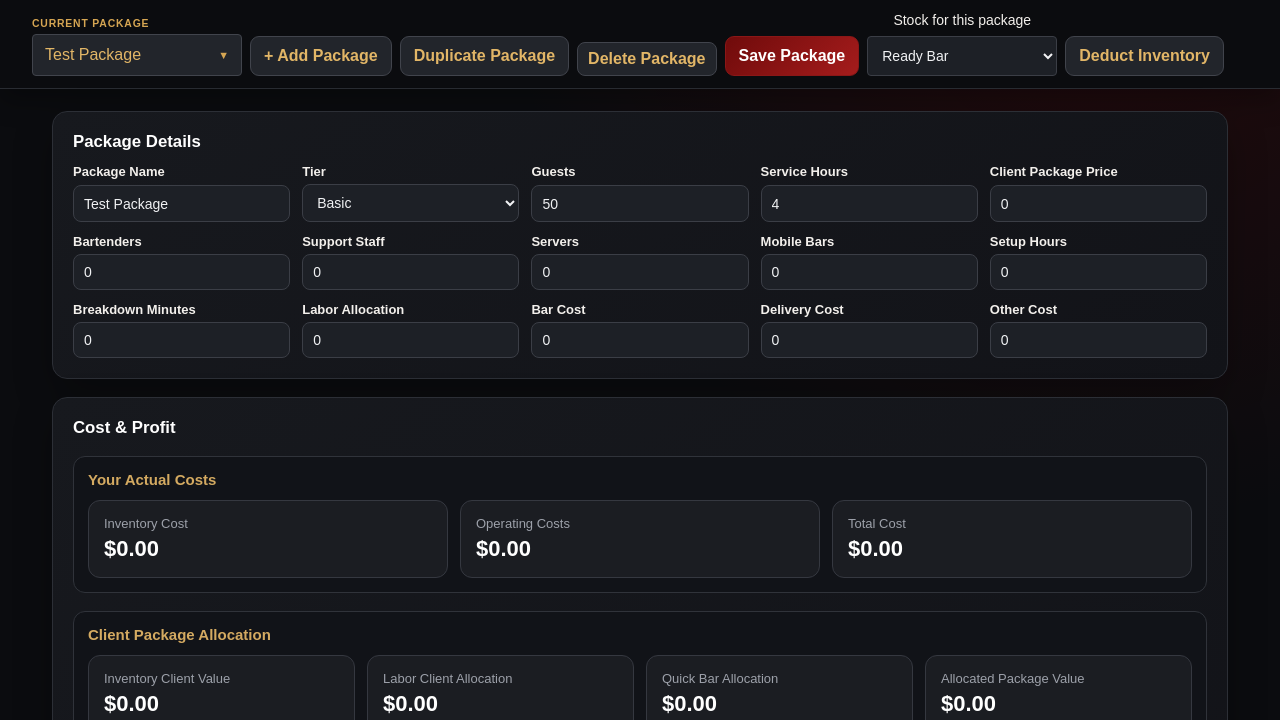
package deductions use exact consumable IDs at the chosen location and exclude reusable tools
expect the field showing "Test Package" is shown: met, box [73,185,290,222]
Select "Ace" in the dropdown labelled "Stock for this package" at (962, 56), box [867,36,1057,76]
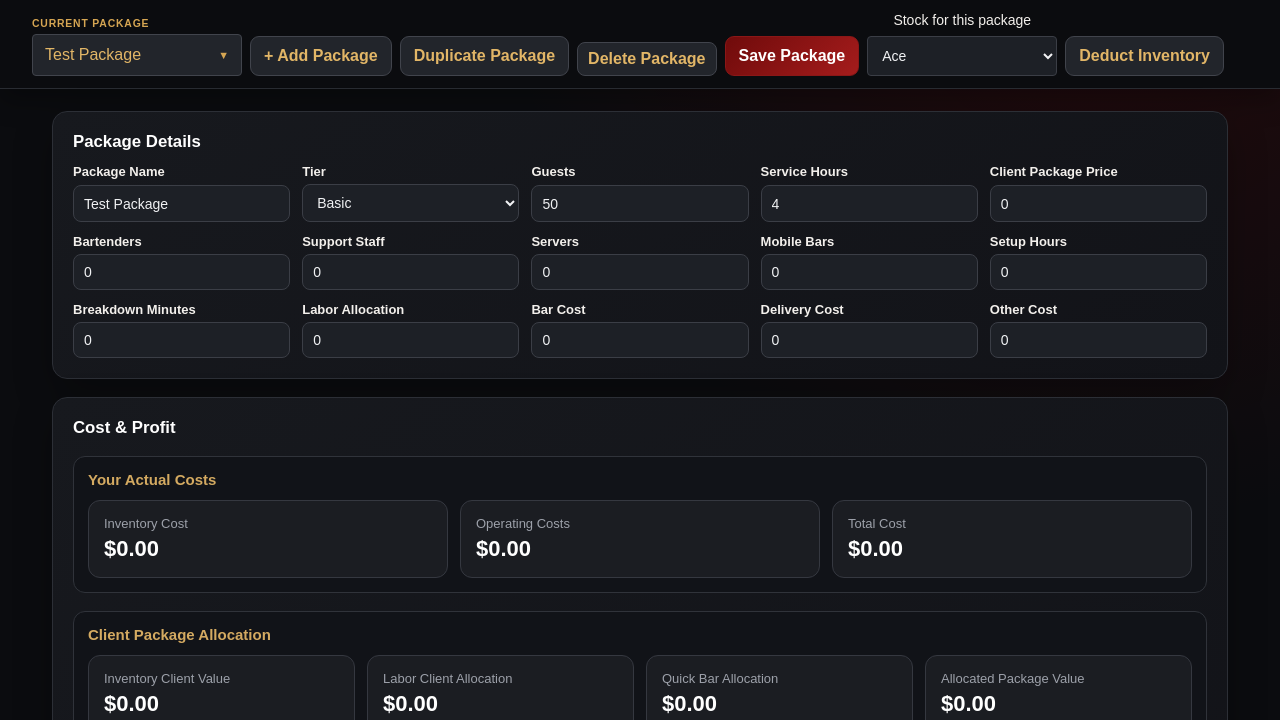
Click the button "Deduct Inventory".
click(1145, 56)  # box [1065,36,1224,76]
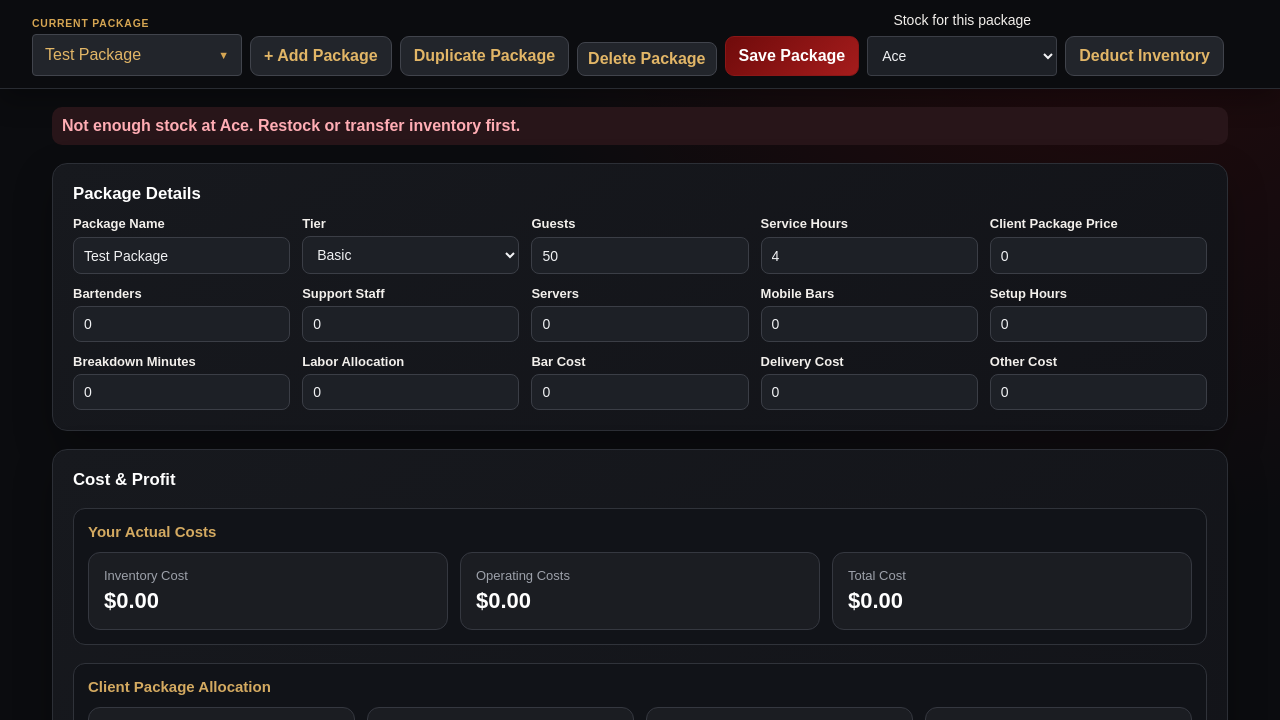
expect the text "Not enough stock at Ace" is shown: met, box [62,117,520,134]
Select "Charlene" in the dropdown labelled "Stock for this package" at (962, 56), box [867,36,1057,76]
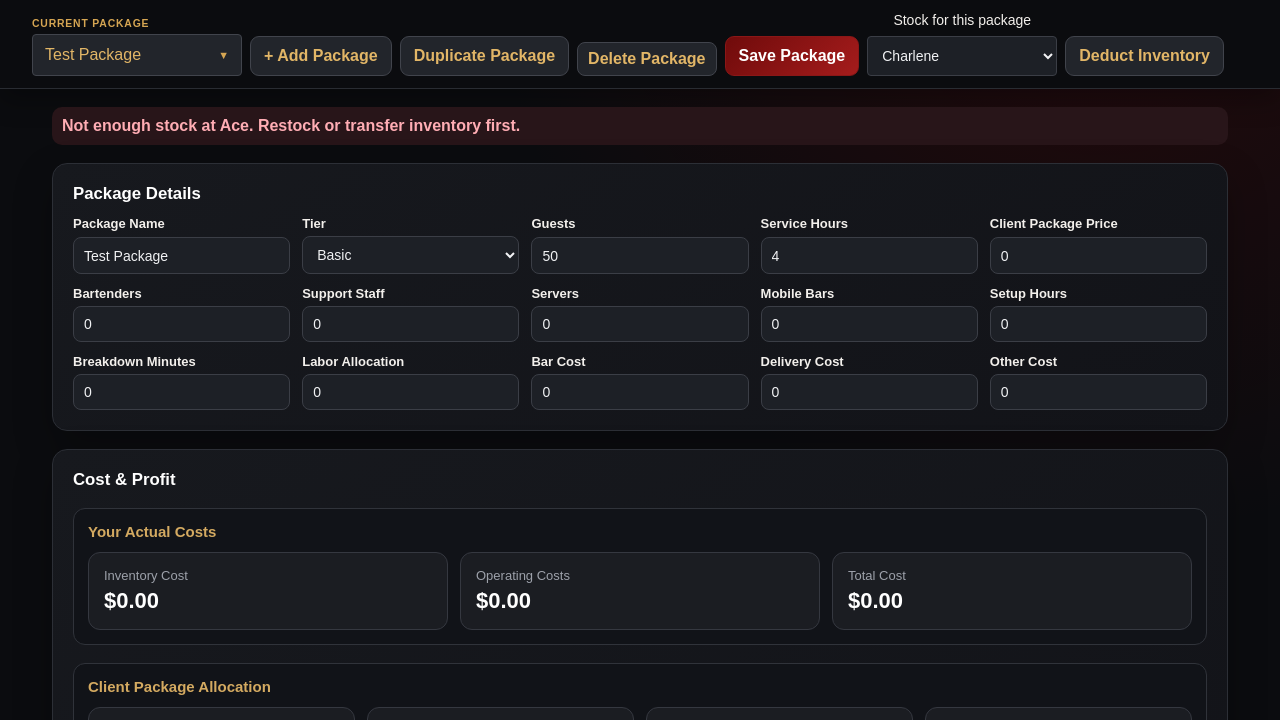
Click the button "Deduct Inventory".
click(1145, 56)  # box [1065,36,1224,76]
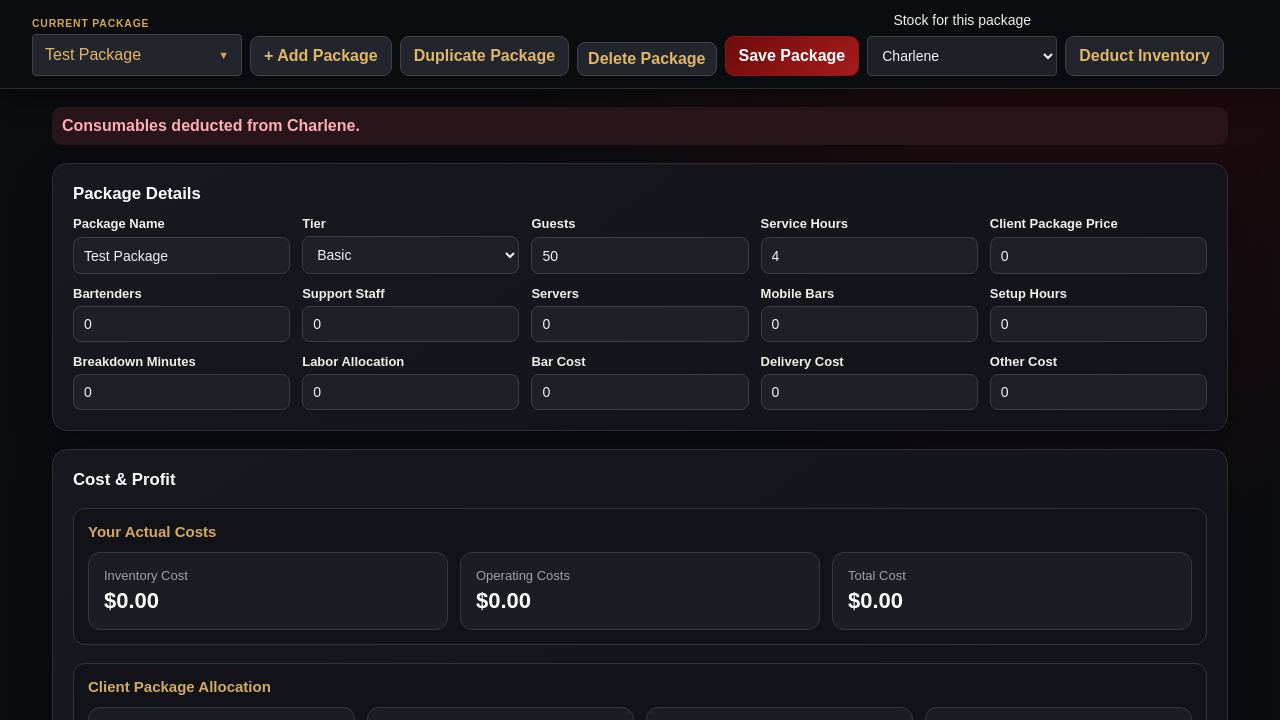
expect the text "Consumables deducted from Charlene." is shown: met, box [52,107,1228,145]
